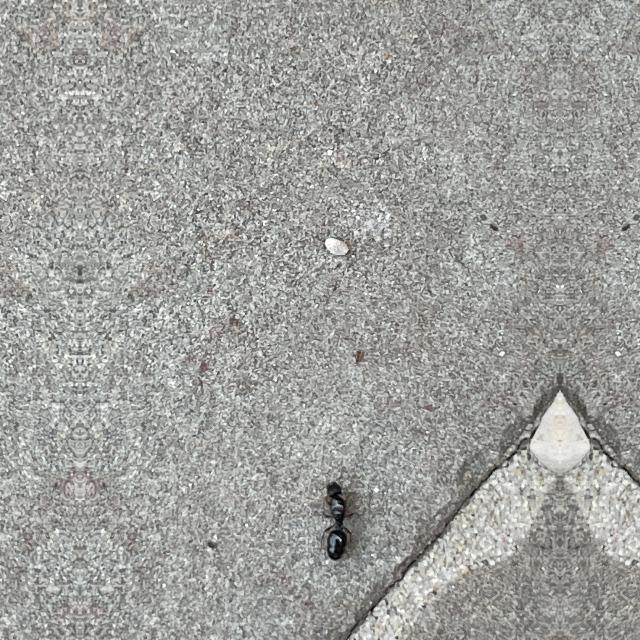Tetramorium: (310, 465, 362, 567)
